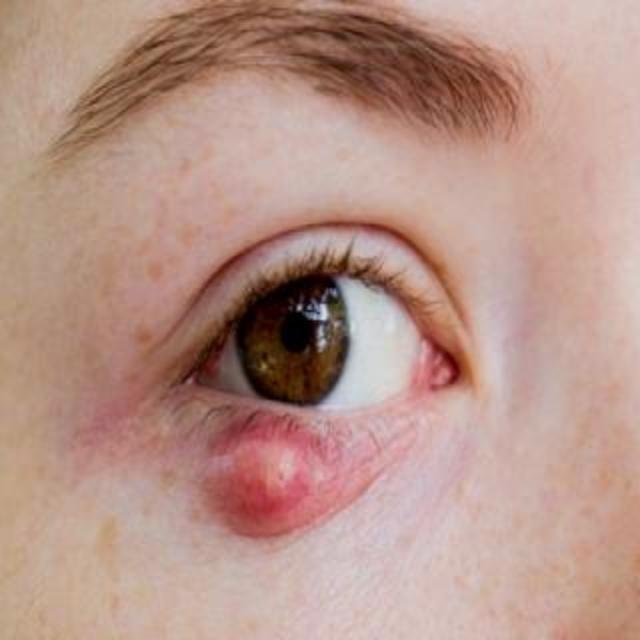Stye: (164, 375, 378, 552)
